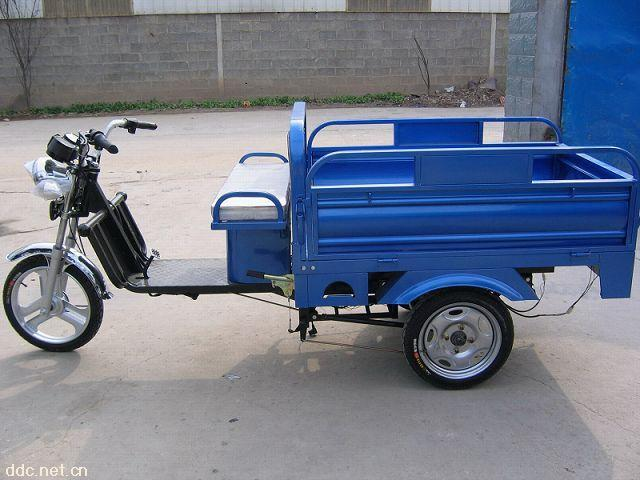empty: (5, 78, 639, 399)
